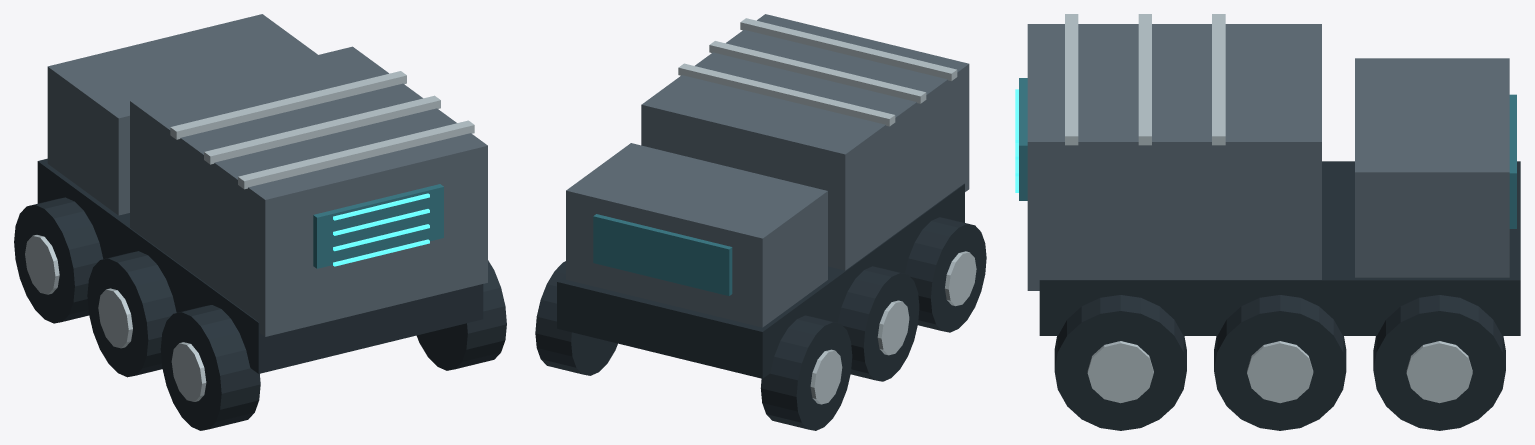
The model's file is resource-hauler.glb.
The picture shows the model from 3 angles, left to right: view 1: azimuth 30°, elevation 25°; view 2: azimuth 150°, elevation 25°; view 3: azimuth 270°, elevation 25°; orthographic projection. The views are drawn at different scales.
Visible parts, largest first — view 1: armored cargo container, cab, truck chassis, tire, tire.001, tire.002, glowing status panel.001, tire.003, container reinforcement, container reinforcement.001, container reinforcement.002, wheel hub (+6 smaller); view 2: armored cargo container, cab, truck chassis, glowing status panel, tire.002, tire, tire.001, tire.005, container reinforcement.001, container reinforcement.002, container reinforcement, wheel hub.001 (+2 smaller); view 3: armored cargo container, cab, truck chassis, tire.005, tire.004, tire.003, wheel hub.004, wheel hub.003, wheel hub.005, container reinforcement.002, container reinforcement, container reinforcement.001 (+2 smaller).
Boxes of the visible parts, box(x1,y1,x2,y2) form: armored cargo container: box(130, 46, 487, 336); cab: box(47, 14, 317, 215); truck chassis: box(37, 158, 483, 373); tire: box(160, 305, 260, 430); tire.001: box(87, 251, 176, 377); tire.002: box(14, 197, 103, 323); glowing status panel.001: box(313, 184, 443, 268); tire.003: box(416, 260, 506, 370); container reinforcement: box(238, 120, 474, 189); container reinforcement.001: box(204, 95, 440, 164); container reinforcement.002: box(170, 71, 406, 139); wheel hub: box(171, 342, 206, 401); armored cargo container: box(641, 14, 969, 270); cab: box(566, 143, 827, 327); truck chassis: box(557, 183, 964, 378); glowing status panel: box(593, 214, 732, 295); tire.002: box(760, 315, 852, 430); tire: box(905, 217, 986, 332); tire.001: box(837, 266, 919, 381); tire.005: box(535, 261, 617, 375); container reinforcement.001: box(709, 41, 926, 103); container reinforcement.002: box(678, 63, 895, 126); container reinforcement: box(740, 18, 957, 81); wheel hub.001: box(877, 300, 909, 355); armored cargo container: box(1027, 24, 1321, 290); cab: box(1355, 58, 1509, 277); truck chassis: box(1039, 161, 1520, 335); tire.005: box(1373, 295, 1505, 430); tire.004: box(1214, 295, 1346, 430); tire.003: box(1054, 295, 1186, 430); wheel hub.004: box(1247, 341, 1313, 403); wheel hub.003: box(1087, 341, 1153, 403); wheel hub.005: box(1406, 341, 1472, 403); container reinforcement.002: box(1212, 14, 1225, 145); container reinforcement: box(1065, 14, 1078, 145); container reinforcement.001: box(1138, 14, 1151, 145).
Bounding box in the file's own units: 1.5 × 1.26 × 2.06.
